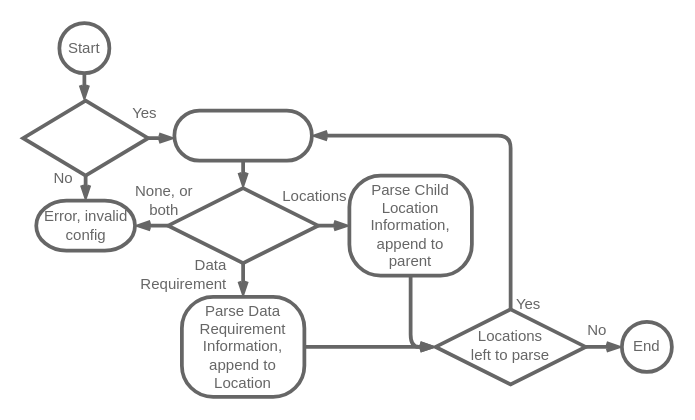
Some shapes in this 695 by 420 pixel diagram are drawn without their labels. Each missing label, with the centre of its shape:
"Data Req or Locations" belongs at (242,225).
"Locations Exists?" belongs at (85,137).
"Parse Location Information" belongs at (242,135).
